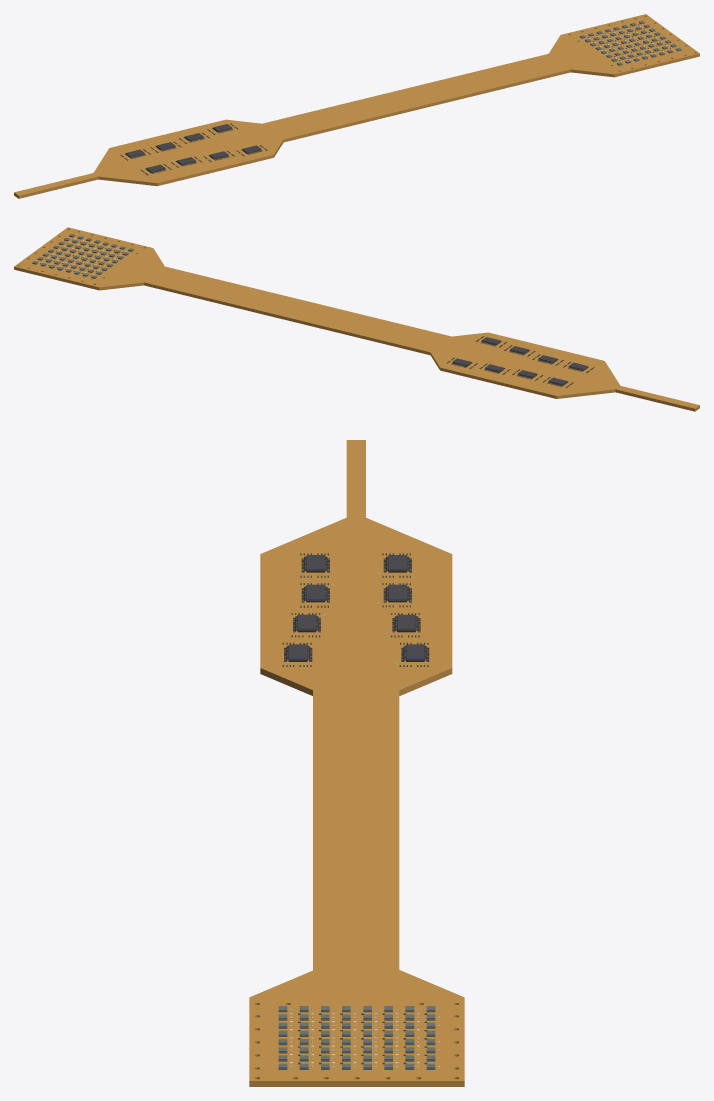
Rendered from board-8x8.glb.
The picture shows the model from 3 angles, top to bottom: view 1: azimuth 30°, elevation 25°; view 2: azimuth 150°, elevation 25°; view 3: azimuth 270°, elevation 25°; orthographic projection. The views are drawn at different scales.
Parts seen in each view (by area): view 1: PCB; view 2: PCB; view 3: PCB.
Part boxes in pixels (<box>): PCB: <box>14,14,699,198</box>; PCB: <box>14,227,699,411</box>; PCB: <box>249,440,464,1086</box>.
Bounding box in the file's own units: 0.3441 × 0.00256 × 0.0489.
